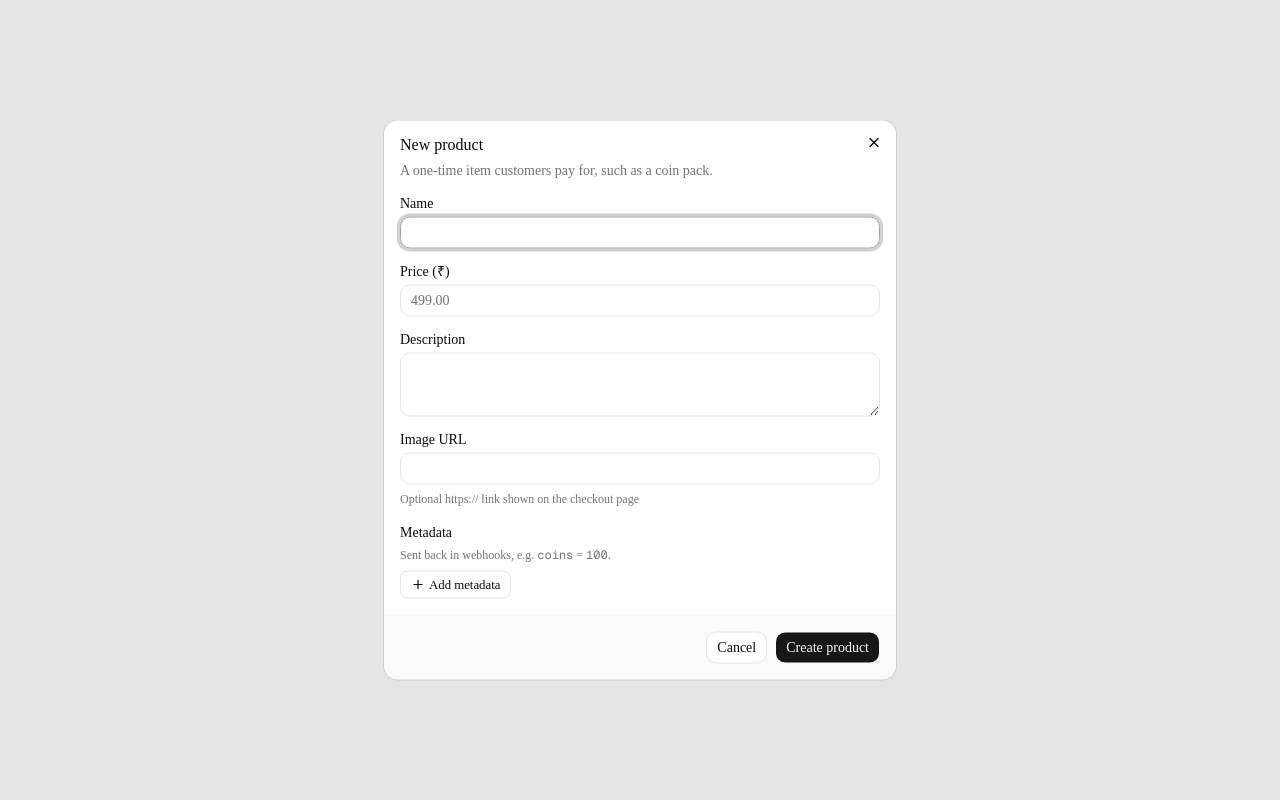
ProductFormDialog › should_show_server_field_error_when_rejected
This screenshot has width=1280, height=800.
Type "Dup" into the field labelled "Name" at (640, 232), box left=400, top=216, right=880, bottom=248
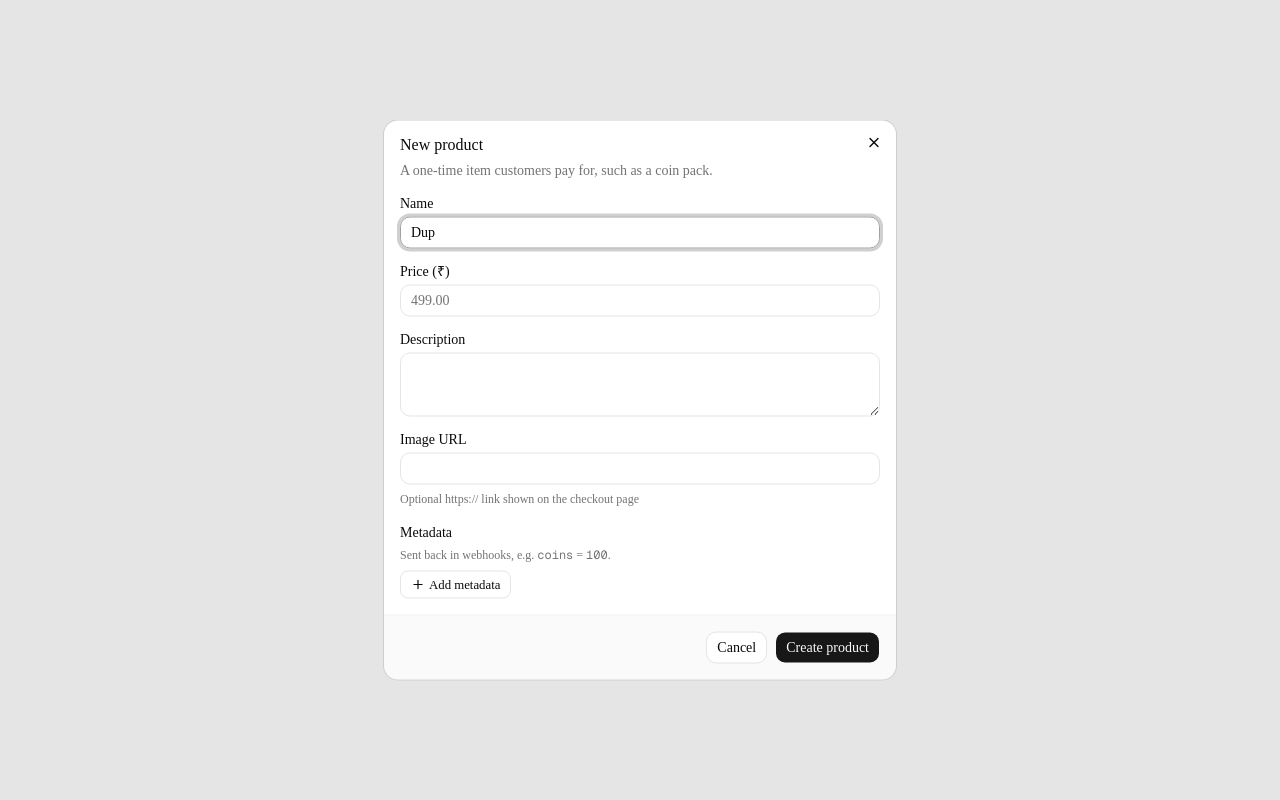
Type "10" into the field labelled "Price (₹)" at (640, 300), box left=400, top=284, right=880, bottom=316
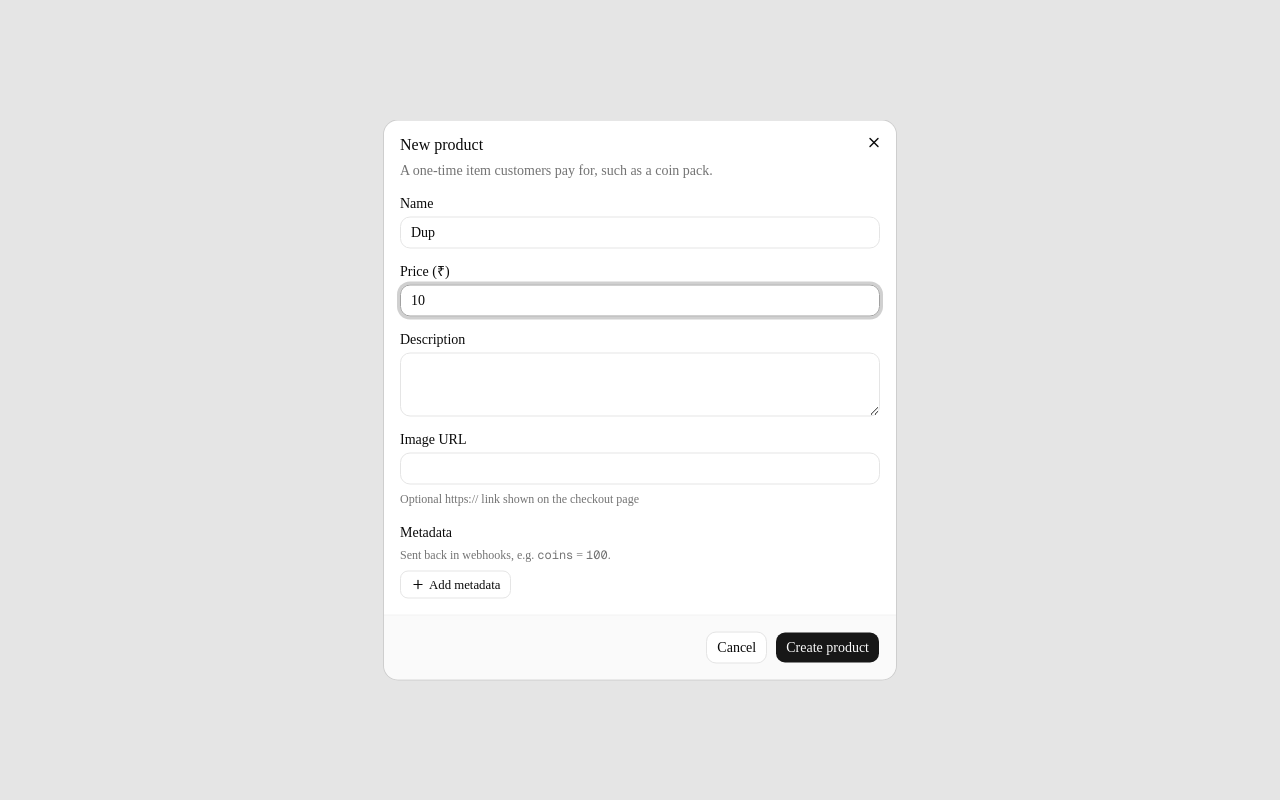
Click the button "Create product" at (828, 648), box left=775, top=632, right=880, bottom=664
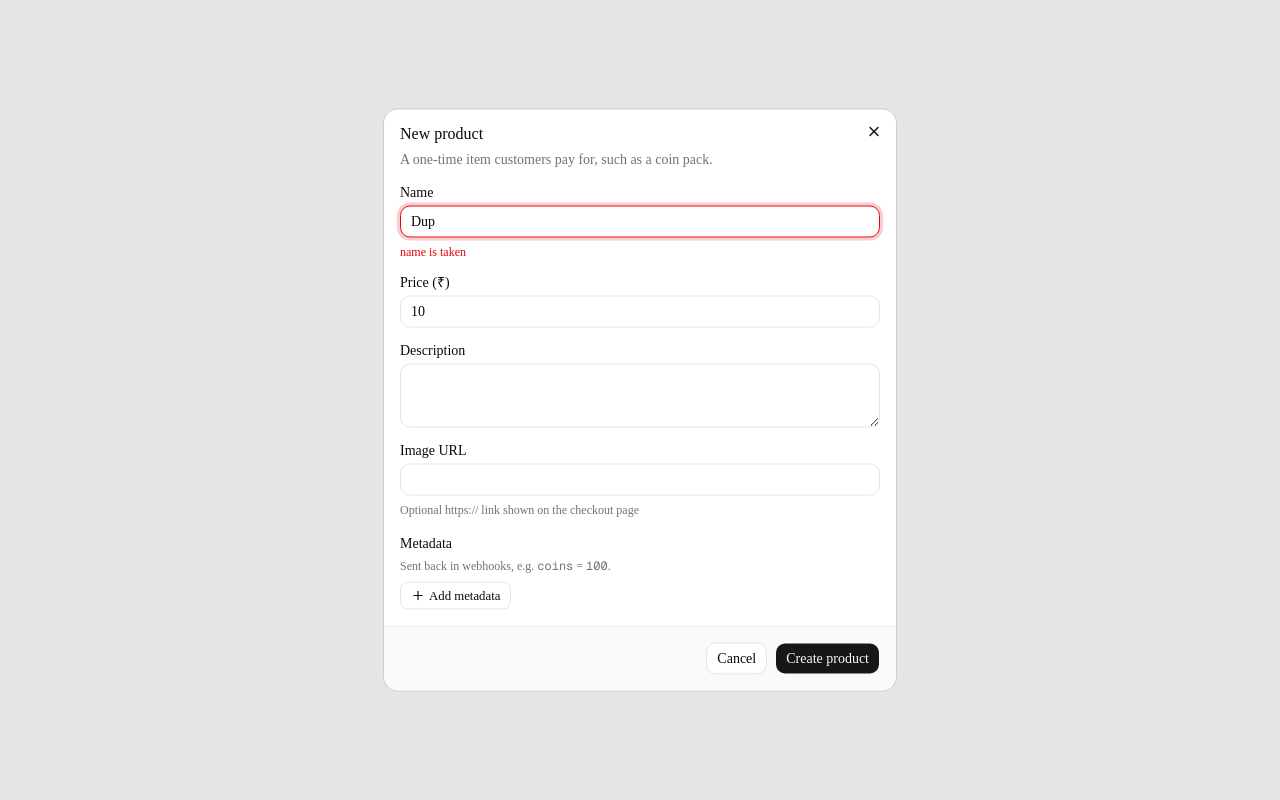
Now the text "name is taken" is shown, box left=400, top=244, right=466, bottom=258
